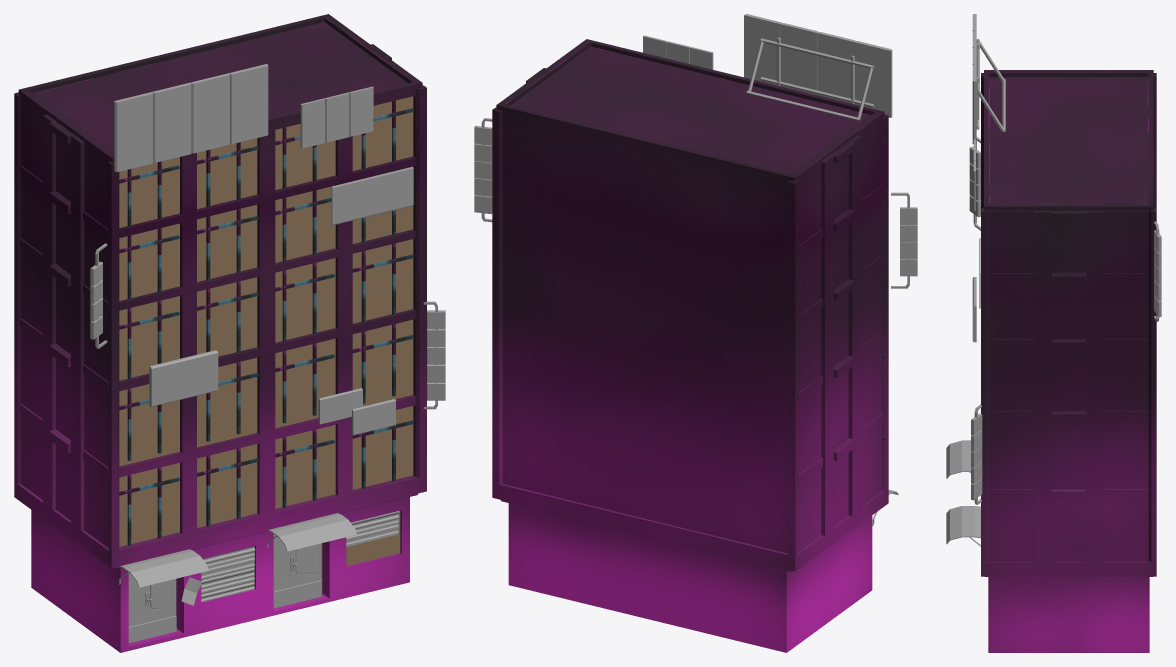
The model's file is Building1FIX.fbx.
3 views of the same model, side by side, from view 1: azimuth 30°, elevation 25°; view 2: azimuth 150°, elevation 25°; view 3: azimuth 270°, elevation 25° (orthographic). The views are drawn at different scales.
Visible parts, largest first — view 1: polySurface1198; view 2: polySurface1198; view 3: polySurface1198.
Boxes of the visible parts, x1,y1,x2,y2 form: polySurface1198: (14,14,445,652); polySurface1198: (474,14,917,652); polySurface1198: (946,14,1161,652).
Size of the model in its own units: 350 by 523 by 202.
